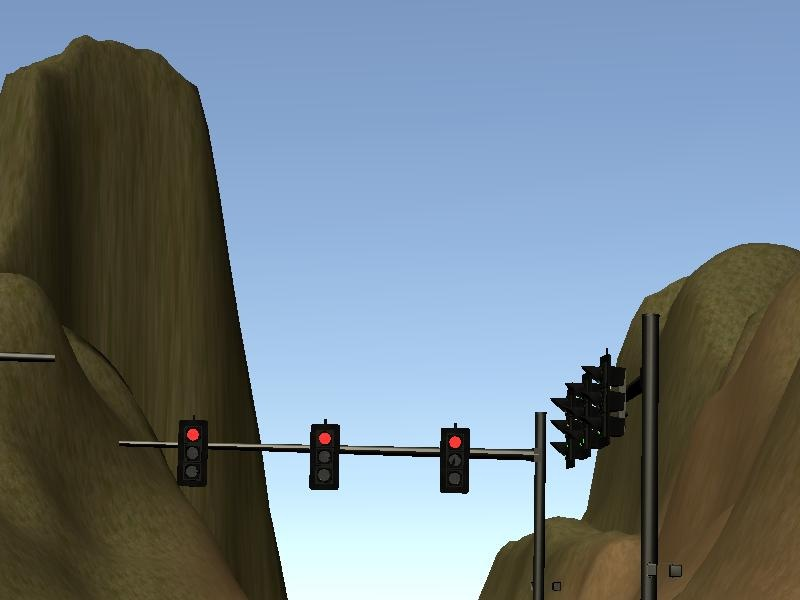traffic_light_red: (160, 410, 533, 496)
